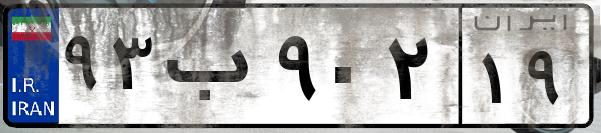0: (330, 28, 385, 110)
1: (475, 38, 525, 113)
2: (385, 28, 445, 110)
3: (110, 28, 158, 98)
9: (270, 28, 330, 110), (57, 26, 110, 100), (525, 38, 570, 115)
ب: (158, 20, 270, 120)
